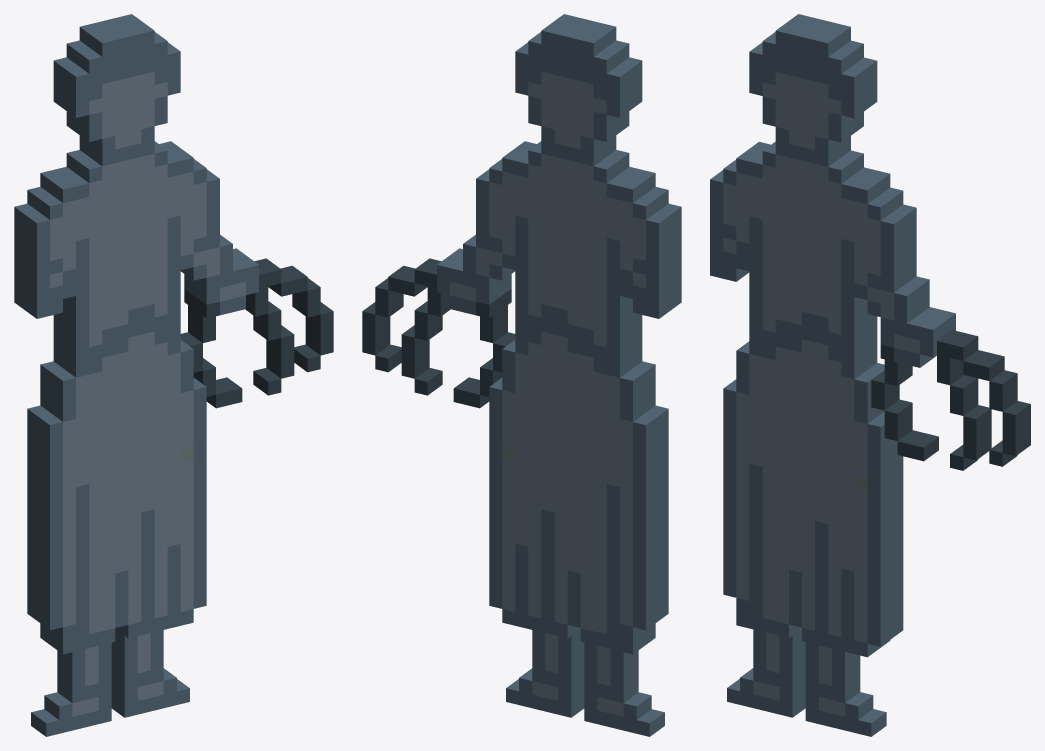
The model's file is CharioteerOfDelphi.fbx.
3 renders of one model, left to right at view 1: azimuth 30°, elevation 25°; view 2: azimuth 150°, elevation 25°; view 3: azimuth 330°, elevation 25°, orthographic.
Parts seen in each view (by area): view 1: generated; view 2: generated; view 3: generated.
Part boxes in pixels (bbox=[...]): generated: bbox=[14, 14, 333, 736]; generated: bbox=[362, 14, 681, 736]; generated: bbox=[710, 14, 1030, 736].
Size of the model in its own units: 23 by 50 by 3.
